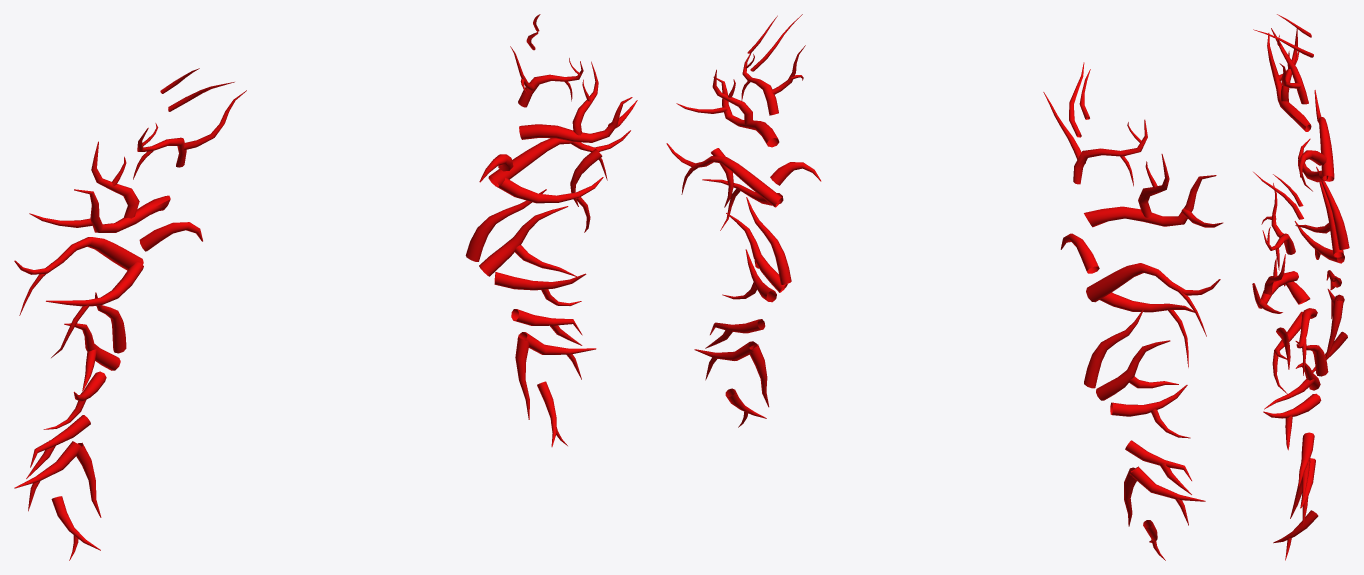
Rendered from Pulmonary_Arteries.fbx.
3 renders of one model, left to right at view 1: azimuth 30°, elevation 25°; view 2: azimuth 150°, elevation 25°; view 3: azimuth 270°, elevation 25°, orthographic. The views are drawn at different scales.
Parts seen in each view (by area): view 1: Pulmonary_Arteries; view 2: Pulmonary_Arteries; view 3: Pulmonary_Arteries.
Boxes of the visible parts, bbox=[...] form: Pulmonary_Arteries: bbox=[14, 14, 637, 560]; Pulmonary_Arteries: bbox=[666, 14, 1223, 560]; Pulmonary_Arteries: bbox=[1252, 14, 1349, 560].
Bounding box in the file's own units: 20.94 × 16.01 × 3.48.
